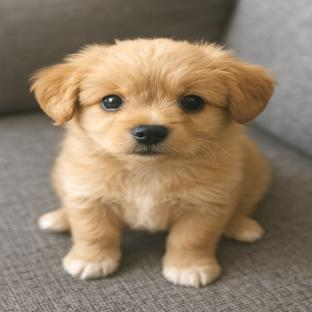Animal: (31, 38, 276, 287)
